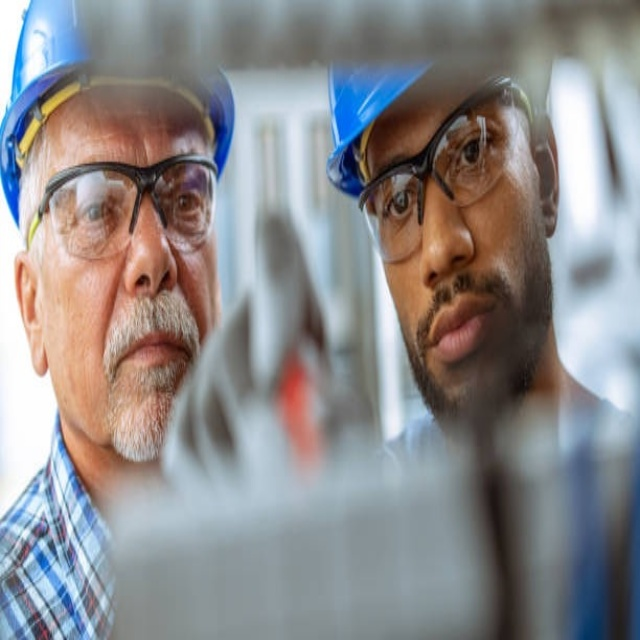Gafas: (355, 71, 528, 264), (28, 145, 222, 262)
Sin_mascara: (412, 272, 503, 413), (105, 294, 197, 417)
